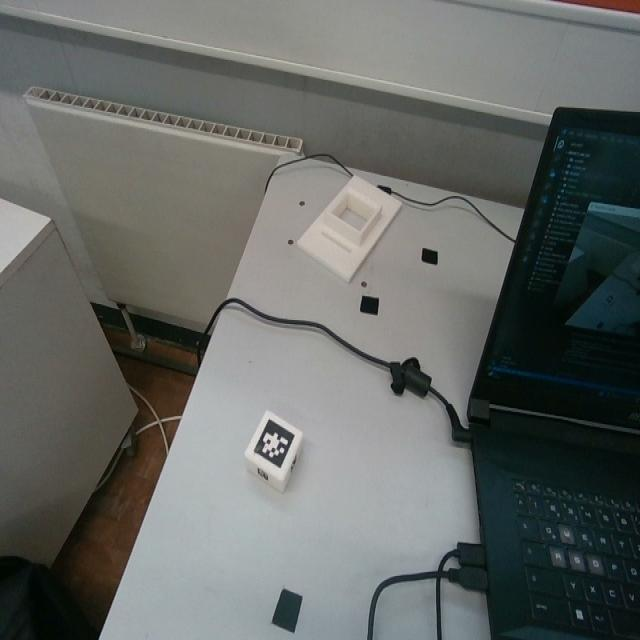Cube: (243, 406, 303, 494)
